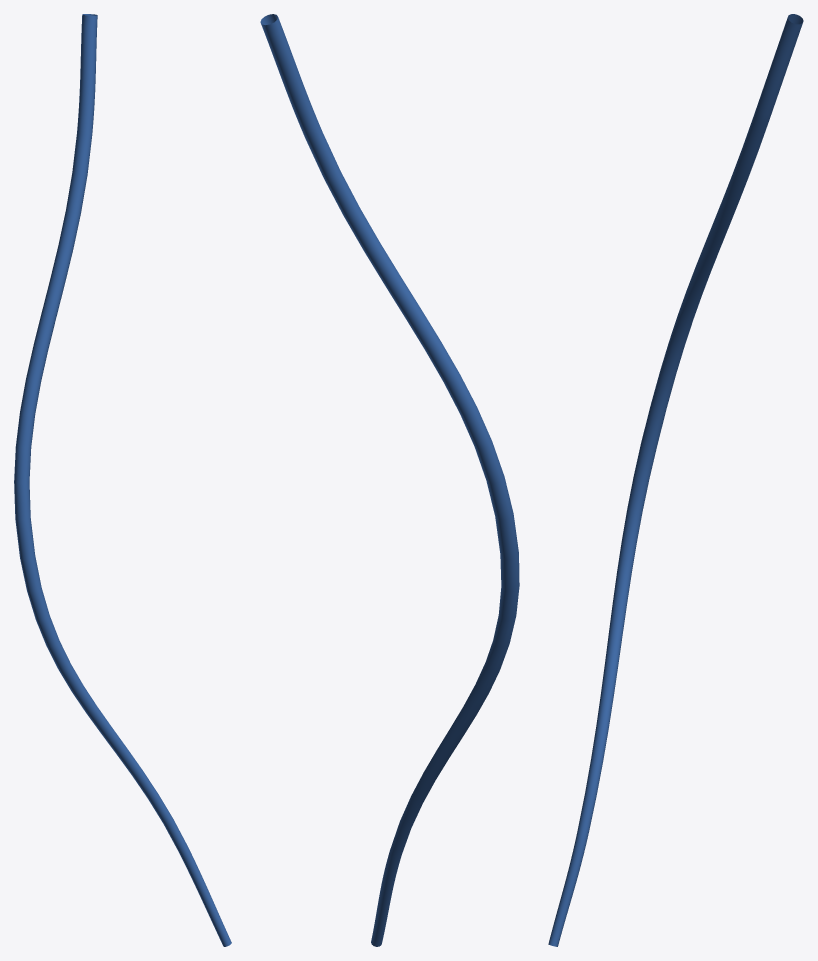
3 views of the same model, side by side, from view 1: azimuth 30°, elevation 25°; view 2: azimuth 150°, elevation 25°; view 3: azimuth 270°, elevation 25° (orthographic). The views are drawn at different scales.
Parts seen in each view (by area): view 1: 右侧眼上静脉; view 2: 右侧眼上静脉; view 3: 右侧眼上静脉.
Boxes of the visible parts, <box> form: 右侧眼上静脉: <box>14,14,231,946</box>; 右侧眼上静脉: <box>260,14,519,946</box>; 右侧眼上静脉: <box>548,14,803,946</box>.
Bounding box in the file's own units: 0.0182 × 0.09 × 0.0227.
